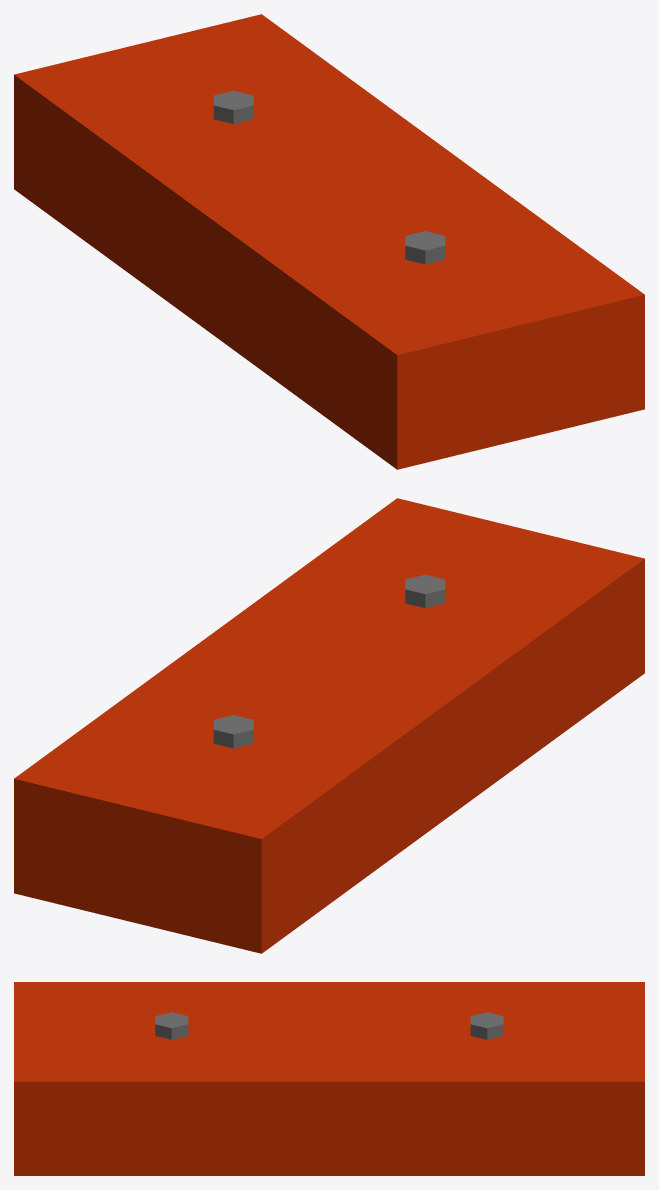
Rendered from Prop_Industrial_Beam_Bolted_01.FBX.
3 renders of one model, top to bottom at view 1: azimuth 30°, elevation 25°; view 2: azimuth 150°, elevation 25°; view 3: azimuth 270°, elevation 25°, orthographic. The views are drawn at different scales.
Visible parts, largest first — view 1: Prop_Industrial_Beam_Bolted_01; view 2: Prop_Industrial_Beam_Bolted_01; view 3: Prop_Industrial_Beam_Bolted_01.
Part boxes in pixels (<box>): Prop_Industrial_Beam_Bolted_01: <box>14,14,644,469</box>; Prop_Industrial_Beam_Bolted_01: <box>14,498,644,953</box>; Prop_Industrial_Beam_Bolted_01: <box>14,982,644,1175</box>.
Bounding box in the file's own units: 560 × 278 × 1500.
